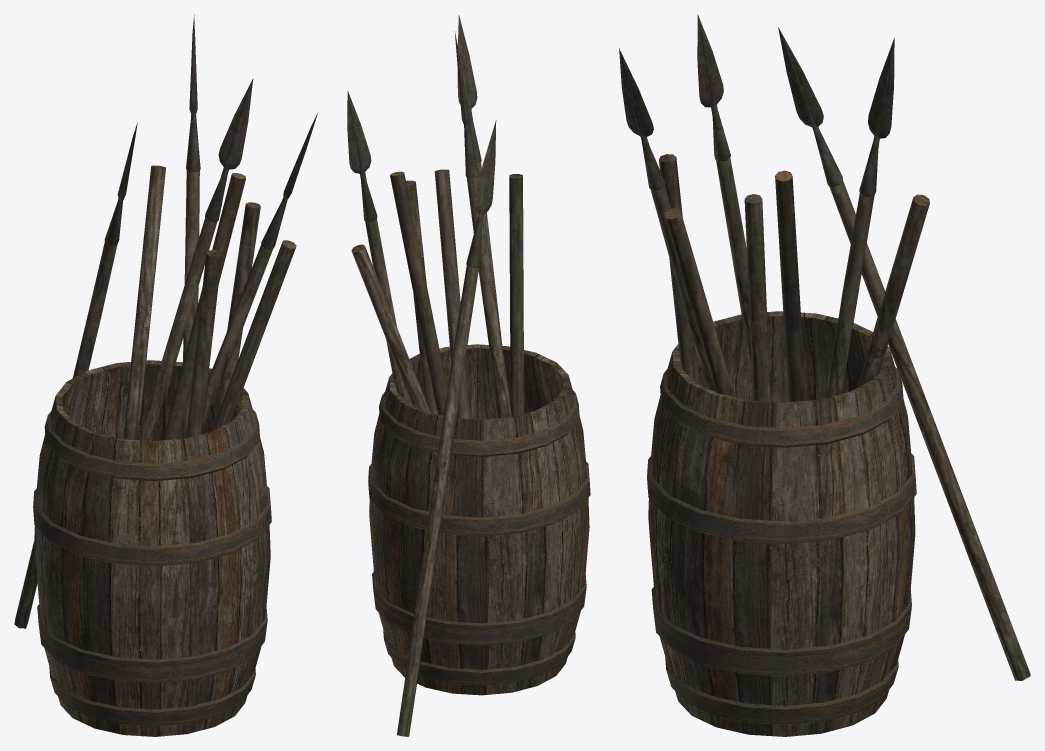
The model's file is VIK_PRO_Workshop_Weapon_WS_01A_LOD0.001-transformed.glb.
The picture shows the model from 3 angles, left to right: view 1: azimuth 30°, elevation 25°; view 2: azimuth 150°, elevation 25°; view 3: azimuth 270°, elevation 25°; orthographic projection. The views are drawn at different scales.
Parts seen in each view (by area): view 1: default; view 2: default; view 3: default.
Boxes of the visible parts, x1,y1,x2,y2 form: default: (14, 14, 317, 736); default: (347, 15, 590, 736); default: (619, 14, 1030, 736).
Bounding box in the file's own units: 0.7942 × 2.3 × 1.2.
2 materials, 2 textured.
